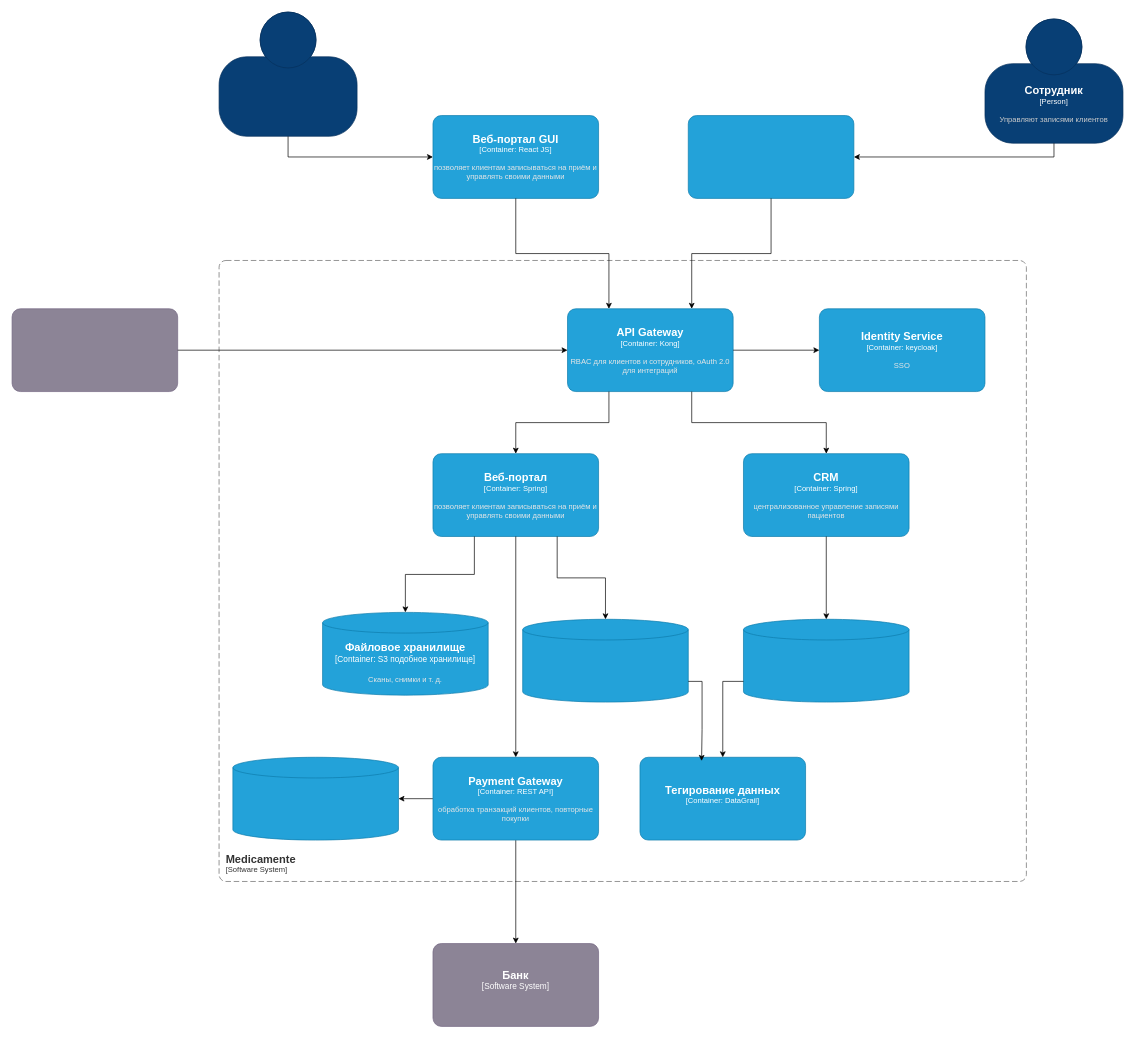
Image size: 1135x1038. Some labels were removed from this diagram. Each missing label, with the centre of its shape:
CRM GUI [Container: React JS] централизованное управление записями пациентов: point (771, 156)
БД CRM [Container: PostgreSQL]: point (826, 660)
БД Веб-портала [Container: PostgreSQL]: point (605, 660)
БД Платежного шлюза [Container: PostgreSQL]: point (315, 798)
Клиент [Person] Обращается в Медикаменте за услугами: point (287, 73)
Лаборатория [Software System] Обработка анализов: point (94, 350)
